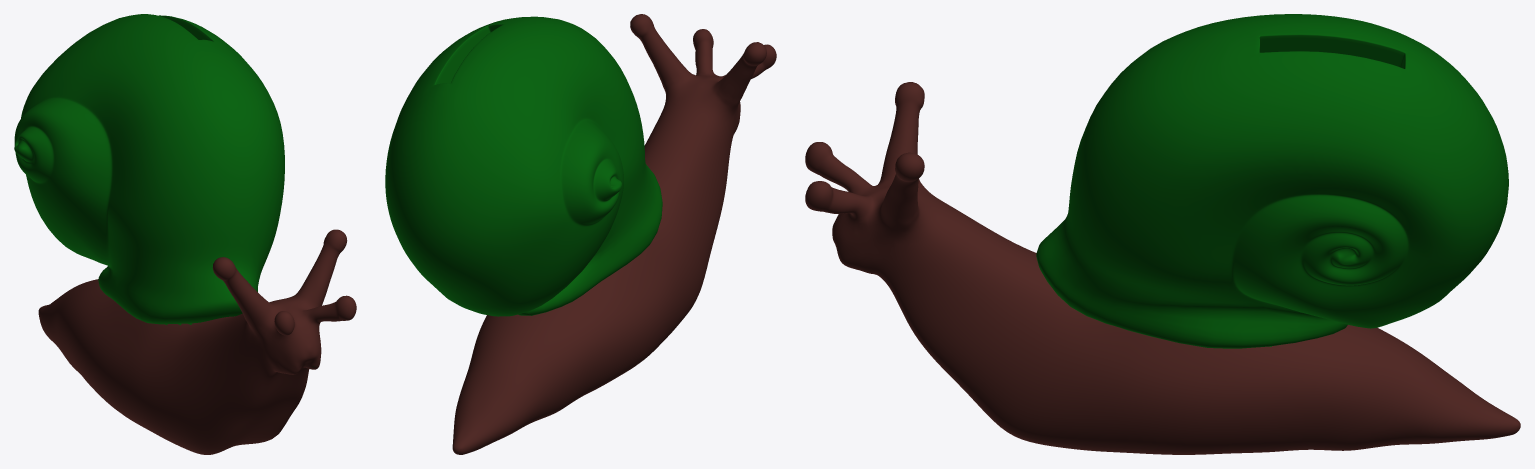
File: snail.fbx
The picture shows the model from 3 angles, left to right: view 1: azimuth 30°, elevation 25°; view 2: azimuth 150°, elevation 25°; view 3: azimuth 270°, elevation 25°; orthographic projection. The views are drawn at different scales.
Parts seen in each view (by area): view 1: snail; view 2: snail; view 3: snail.
Boxes of the visible parts, x1=… form: snail: x1=14, y1=14, x2=356, y2=454; snail: x1=385, y1=14, x2=776, y2=454; snail: x1=805, y1=14, x2=1520, y2=454.
Size of the model in its own units: 413 by 655 by 963.
